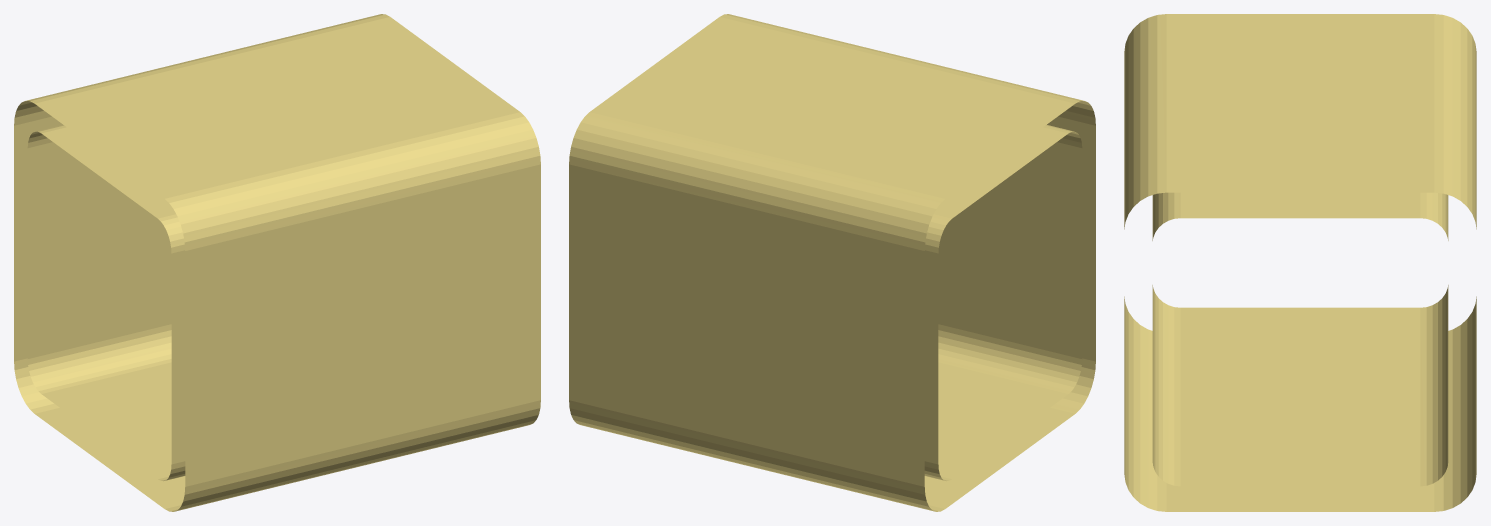
Rendered from RailRight_14.obj.
The picture shows the model from 3 angles, left to right: view 1: azimuth 30°, elevation 25°; view 2: azimuth 150°, elevation 25°; view 3: azimuth 270°, elevation 25°; orthographic projection. The views are drawn at different scales.
Visible parts, largest first — view 1: RailRight_14_15; view 2: RailRight_14_15; view 3: RailRight_14_15.
Part boxes in pixels (x1,y1,x2,y2): RailRight_14_15: (14,14,540,511); RailRight_14_15: (569,14,1095,511); RailRight_14_15: (1124,14,1476,511).
Size of the model in its own units: 0.03 by 0.025 by 0.025.
